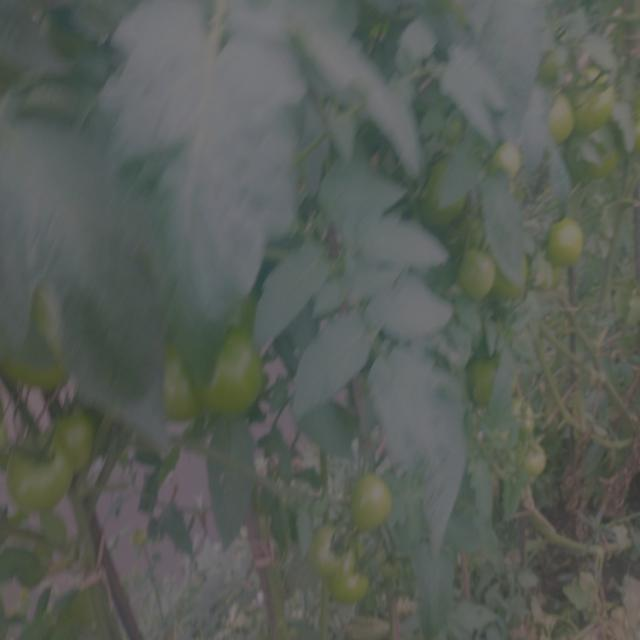tomato: (202, 327, 270, 421), (413, 152, 480, 231), (154, 348, 209, 436), (4, 448, 76, 515), (343, 461, 404, 540), (495, 424, 556, 497), (462, 341, 520, 417), (573, 66, 621, 140), (536, 212, 594, 272), (47, 408, 104, 469), (1, 311, 34, 394), (457, 243, 500, 303), (485, 129, 531, 185), (33, 350, 79, 400), (305, 524, 353, 570), (542, 89, 575, 148), (330, 560, 370, 608)
